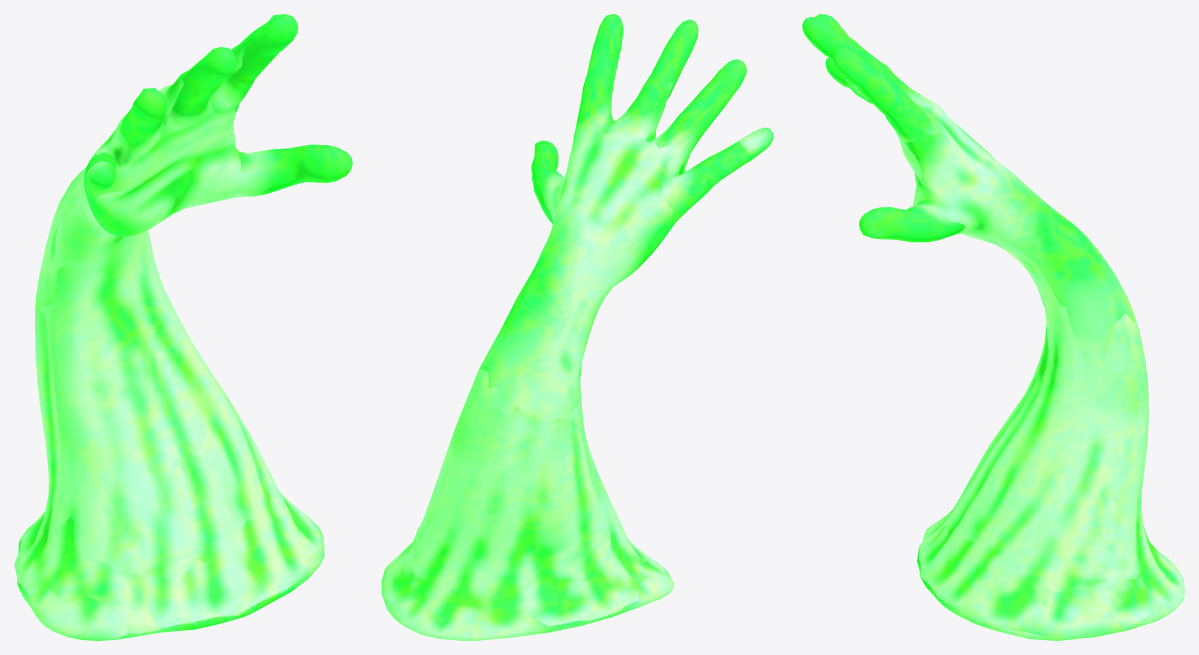
File: MZ4250 - Mage Hand_green.glb
3 views of the same model, side by side, from view 1: azimuth 30°, elevation 25°; view 2: azimuth 150°, elevation 25°; view 3: azimuth 270°, elevation 25° (orthographic). The views are drawn at different scales.
Visible parts, largest first — view 1: Hand open.001; view 2: Hand open.001; view 3: Hand open.001.
Part boxes in pixels (box(x1,y1,x2,y2)): Hand open.001: box(14, 14, 352, 640); Hand open.001: box(381, 14, 773, 640); Hand open.001: box(802, 14, 1184, 640).
Bounding box in the file's own units: 0.3569 × 0.6318 × 0.4072.
1 material, 1 textured.
